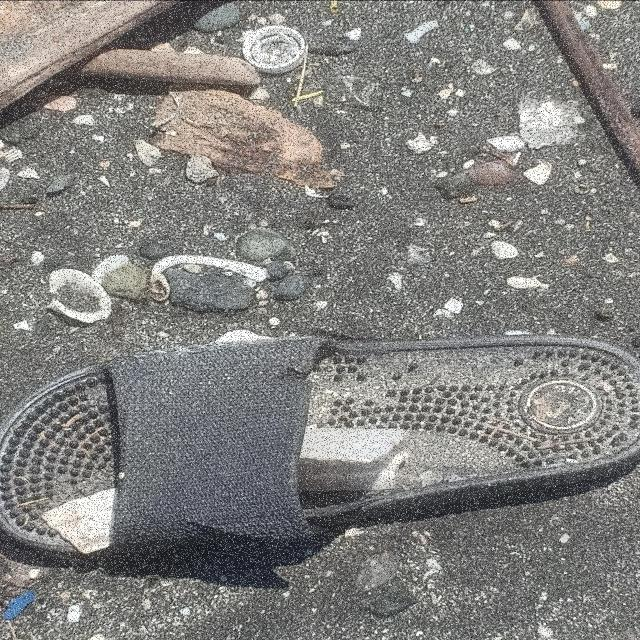plastic_waste: (243, 25, 308, 75)
rubber_waste: (4, 329, 640, 567)
